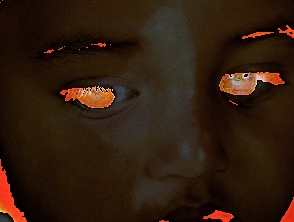vitiligo: (43, 0, 286, 222)
